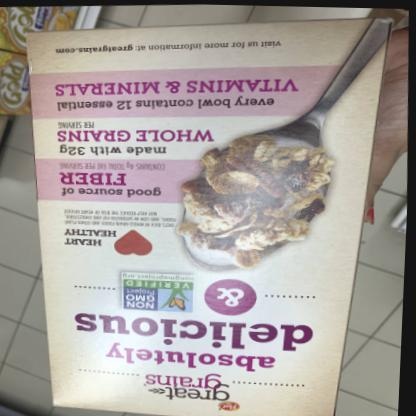cereal box: (9, 5, 408, 415)
